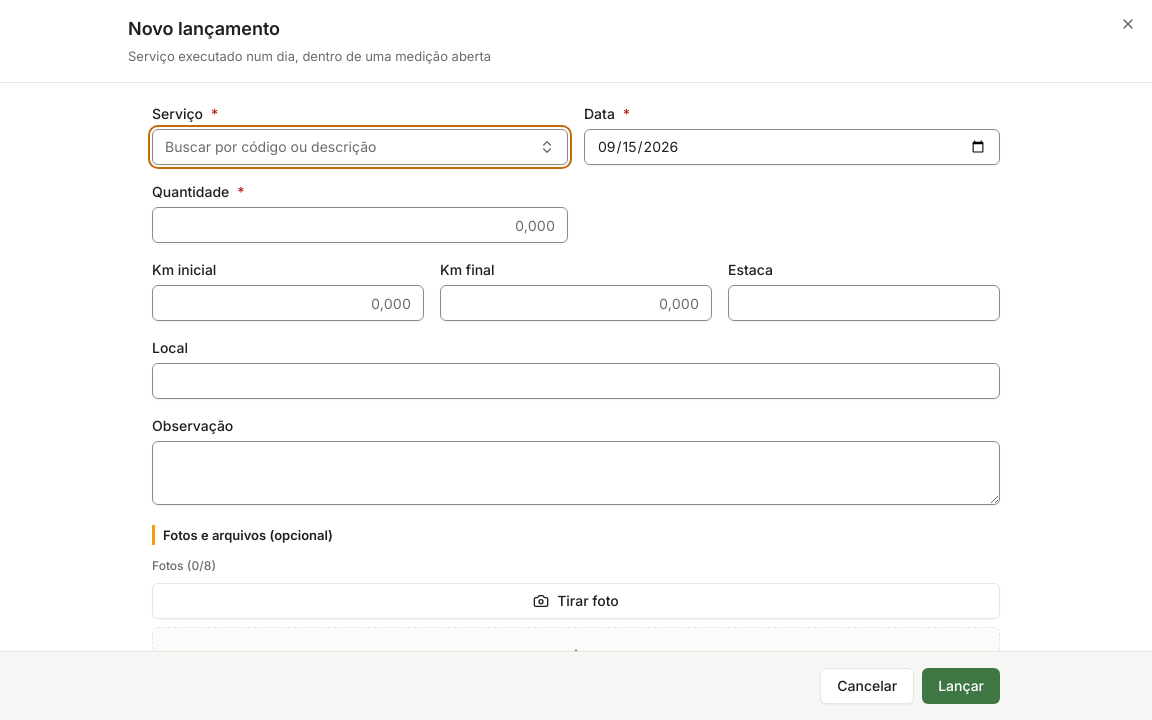
Test: LancamentoDrawer › código repetido entre serviços da mesma medição: as opções do combobox ficam distinguíveis pela linha da planilha
Click the dropdown at coordinates (360, 147), box [152, 129, 568, 165]
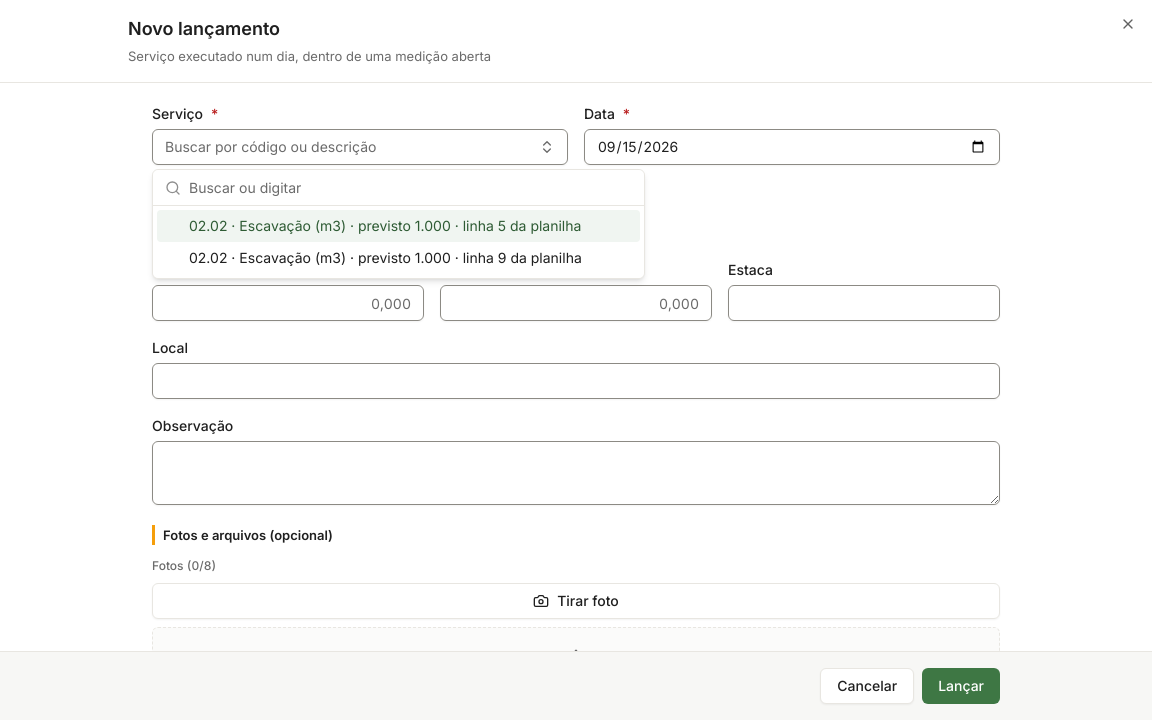
Expected: the number of options "02.02" is 2, [157, 210, 640, 242]; [189, 249, 582, 266]
Expected: the option "02.02" shows "linha 5 da planilha", [157, 210, 640, 242]
Expected: the option "02.02" shows "linha 9 da planilha", [189, 249, 582, 266]
